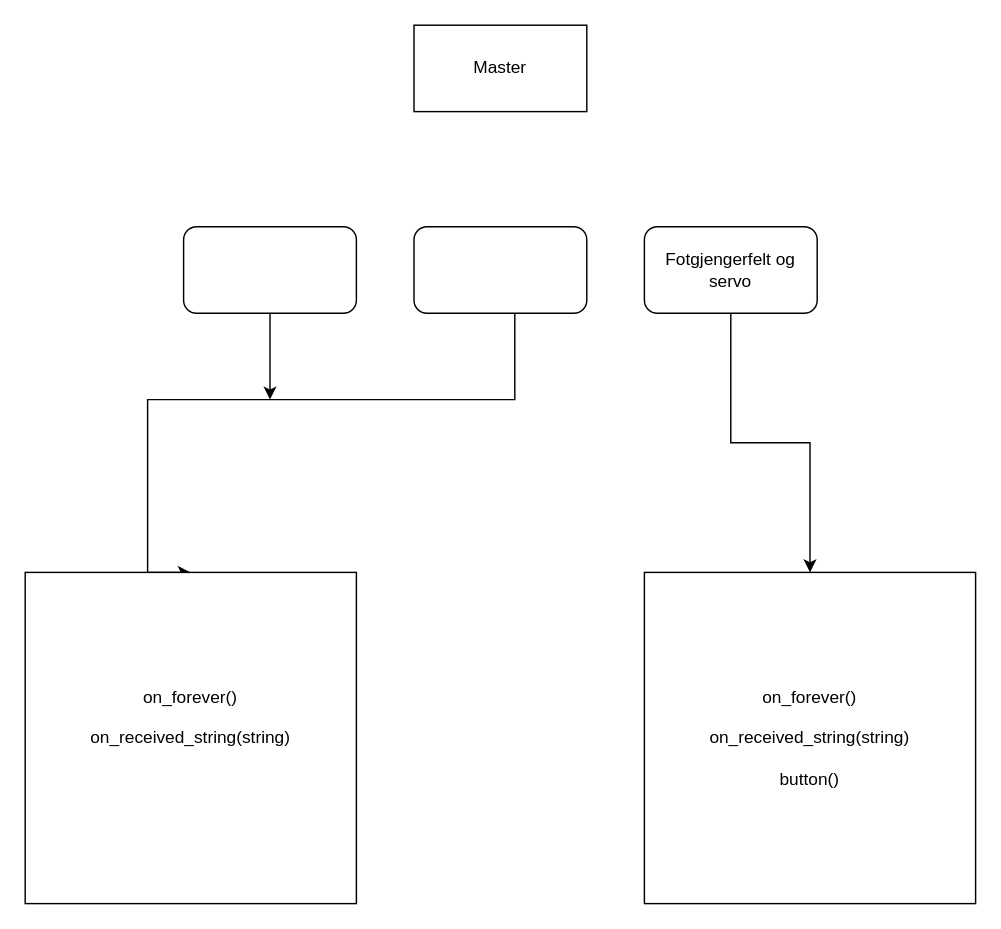
This 1001x929 diagram has some shape labels left out. The shapes that lost their labels are listed below. From the top down, each one's centre as x and y in pixels, then its label:
At point (269, 269): "Lysmast 1 og 2".
At point (500, 269): "Lystmast 3 og 4".
